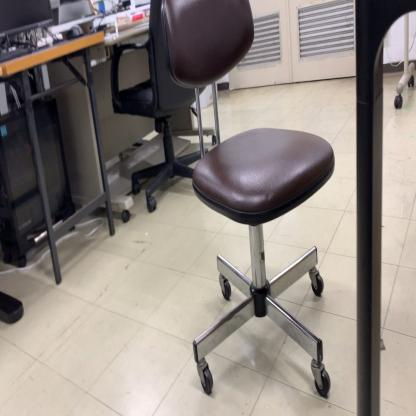chair: (162, 0, 337, 400), (111, 0, 215, 214)
